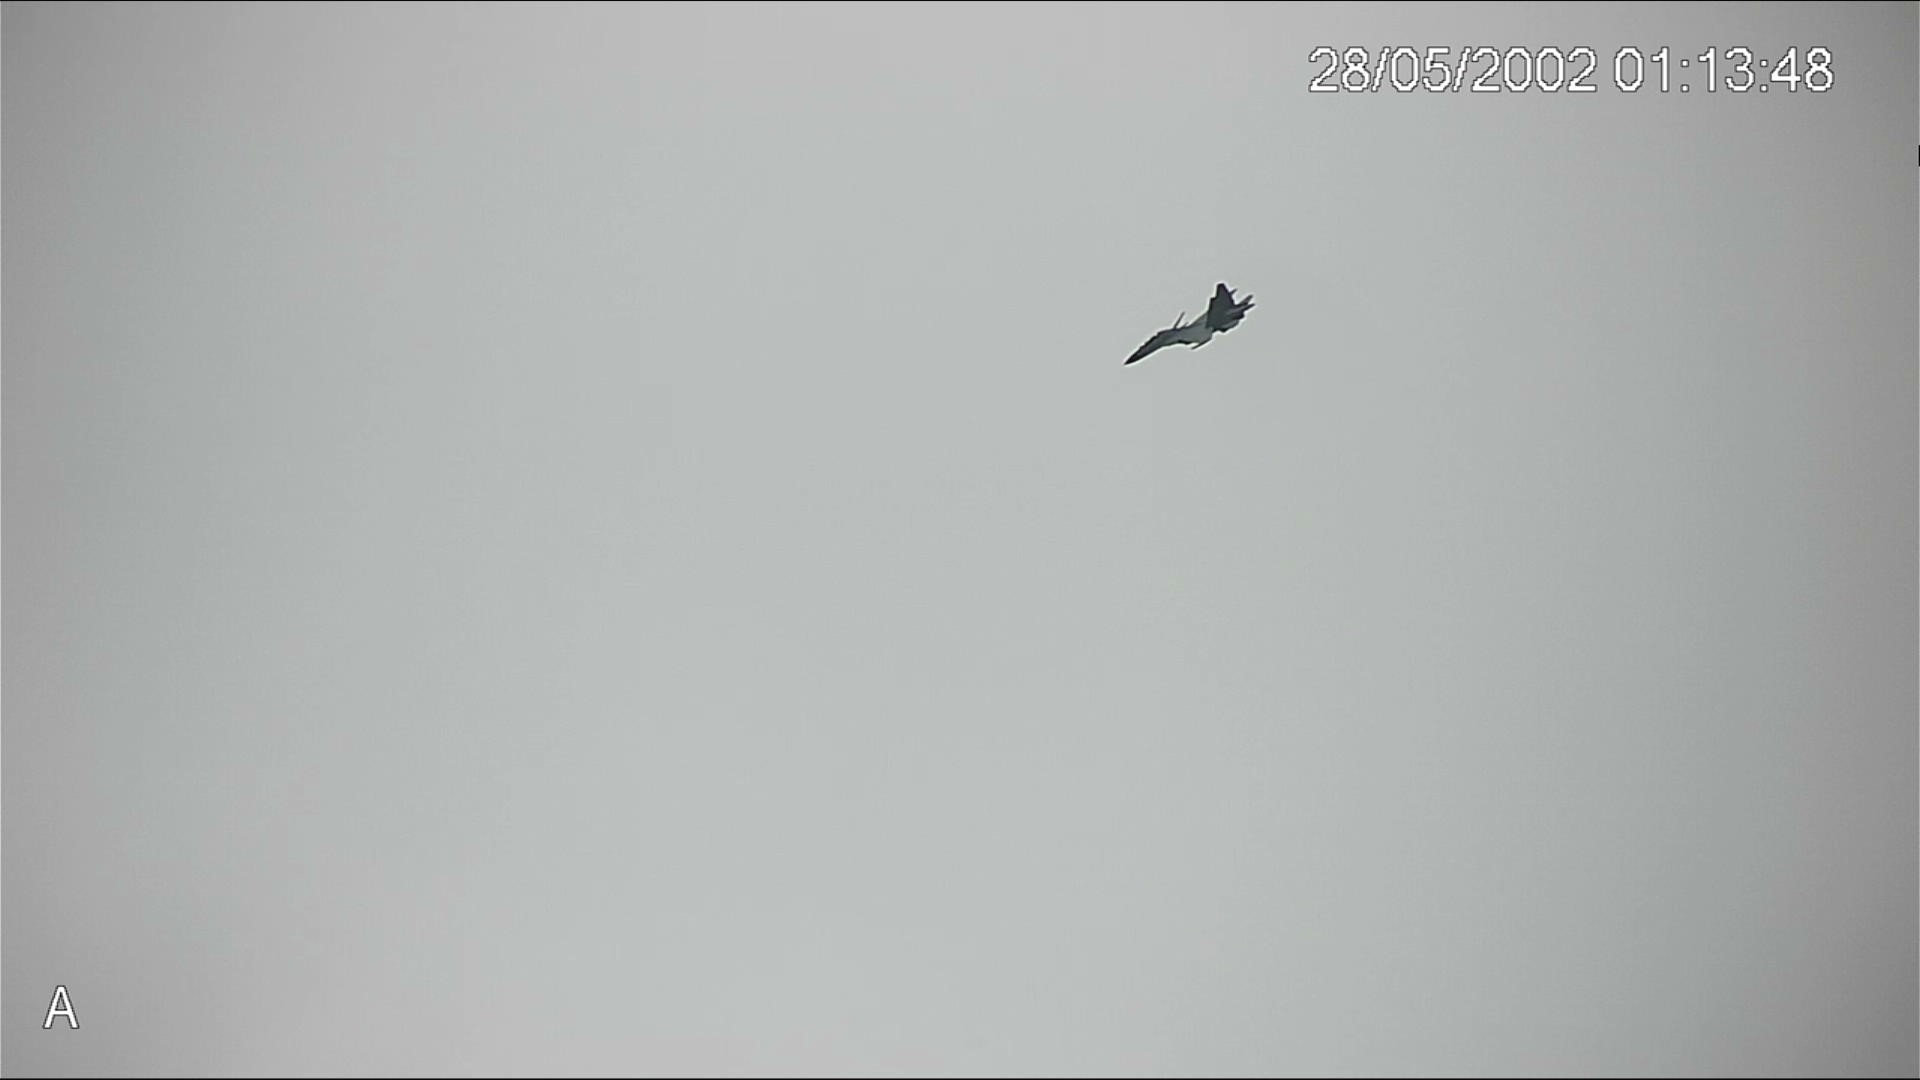SU_30: (1122, 284, 1255, 375)
